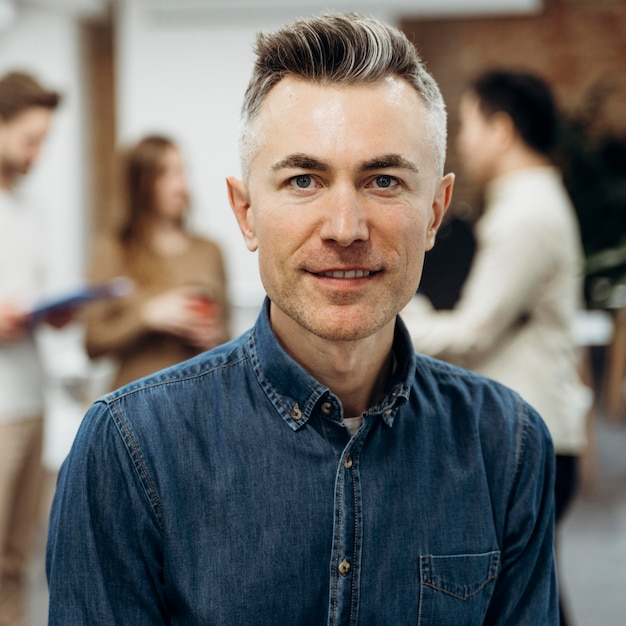young: (203, 29, 465, 343)
